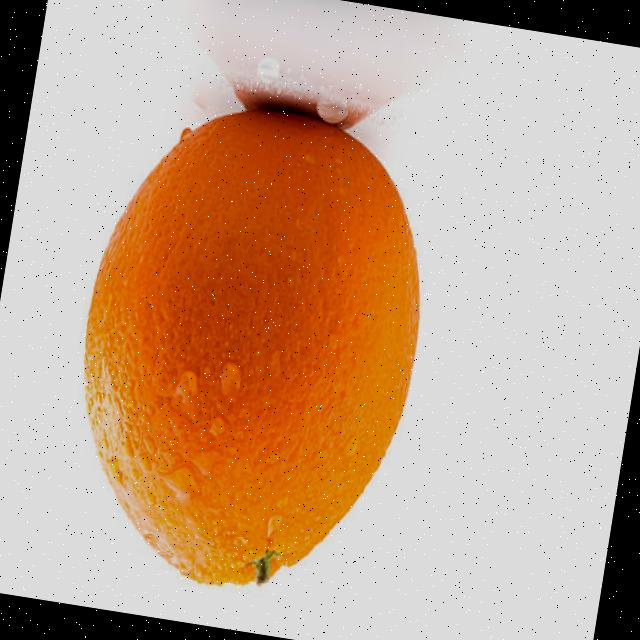Ripe: (47, 85, 456, 616)
